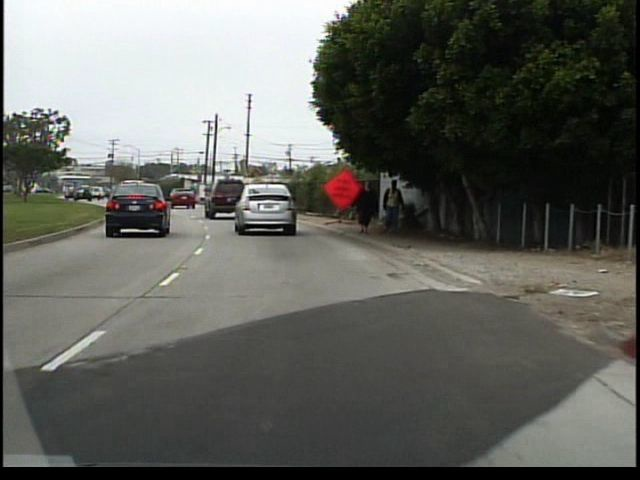person: (346, 175, 380, 240), (380, 178, 406, 240)
